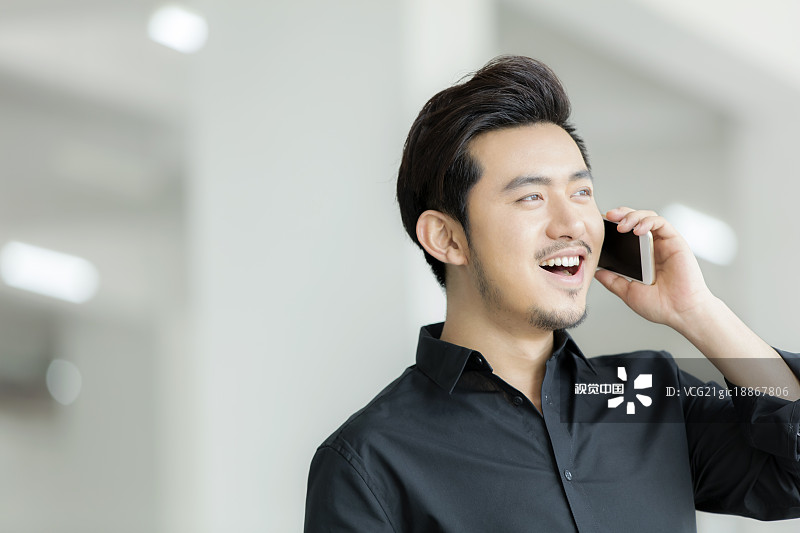calling: (565, 197, 773, 377)
